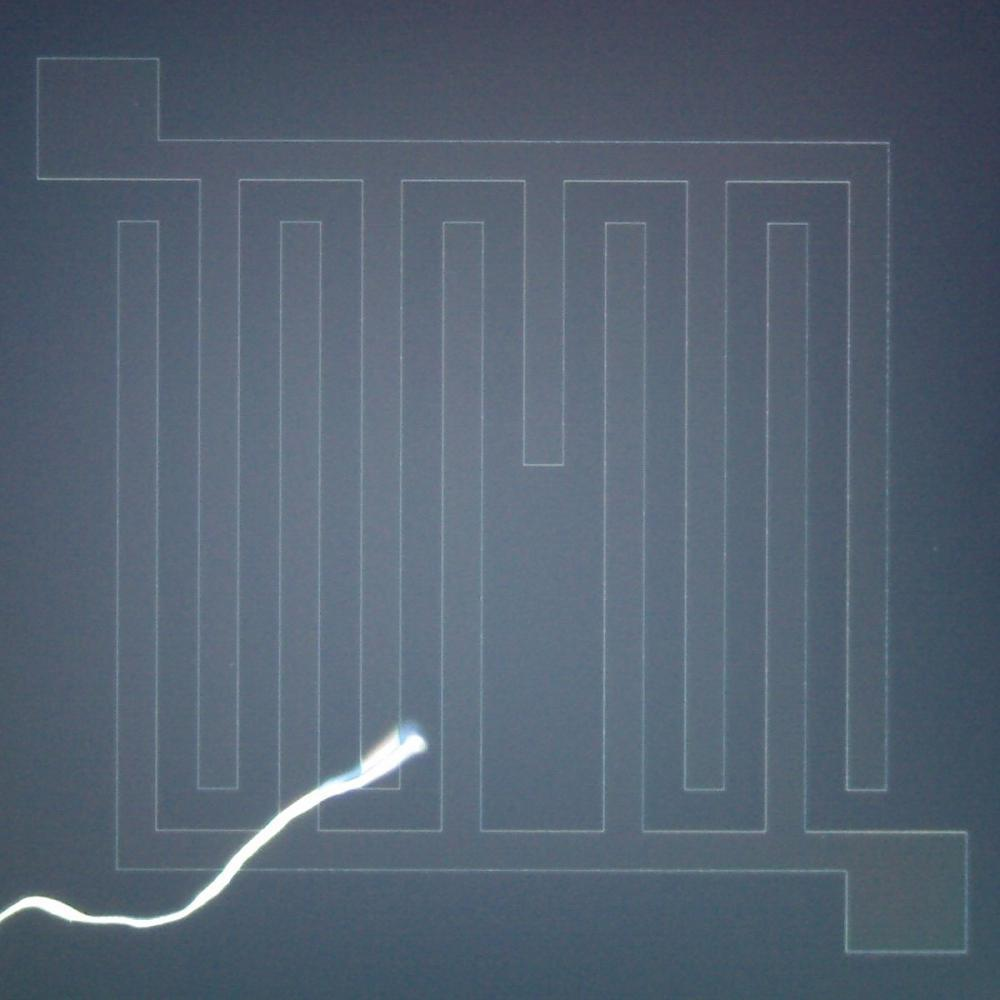cut circuit: (501, 167, 590, 855)
line: (0, 716, 437, 936)
